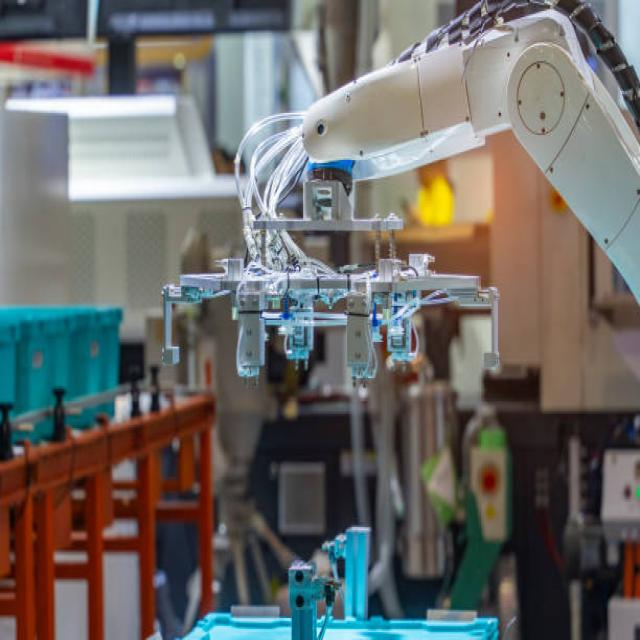Robotic-arm: (230, 0, 640, 340)
